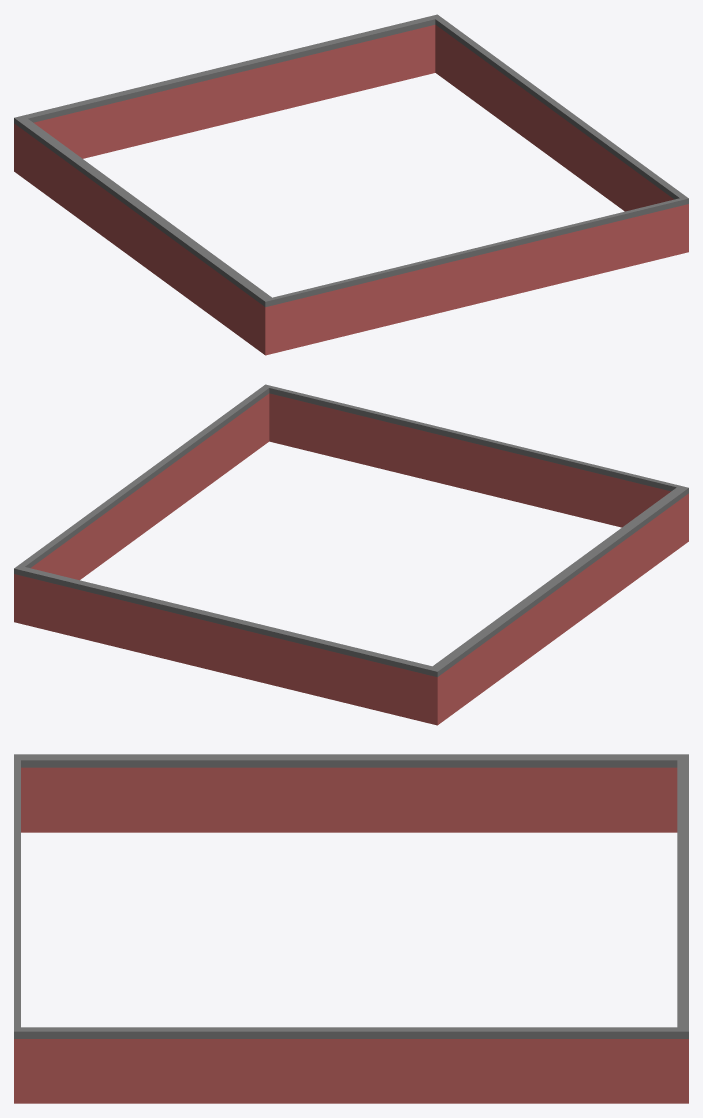
File: WALL.glb
3 views of the same model, one above another, from view 1: azimuth 30°, elevation 25°; view 2: azimuth 150°, elevation 25°; view 3: azimuth 270°, elevation 25° (orthographic). The views are drawn at different scales.
Visible parts, largest first — view 1: Cube.001; view 2: Cube.001; view 3: Cube.001.
Part boxes in pixels (x1,y1,x2,y2): Cube.001: [14, 14, 688, 355]; Cube.001: [14, 384, 688, 725]; Cube.001: [14, 754, 688, 1103].
Size of the model in its own units: 7.65 by 0.9271 by 7.87.
